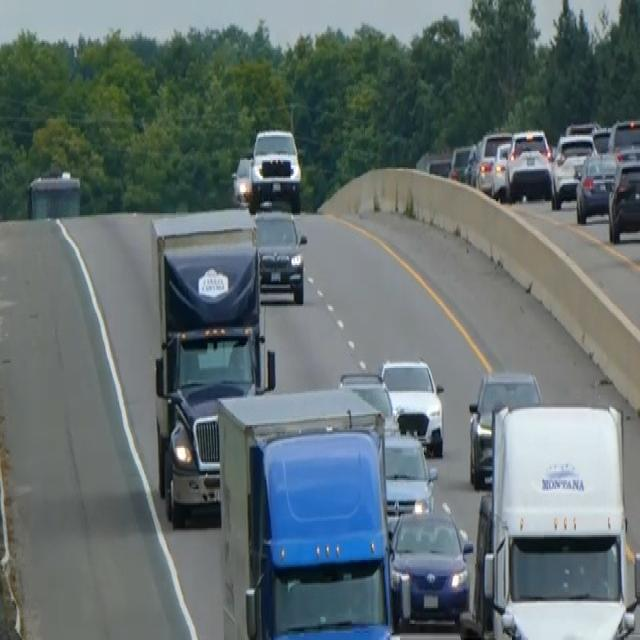car: (388, 500, 473, 628), (467, 368, 541, 487), (379, 356, 444, 455), (380, 428, 438, 534), (251, 203, 308, 304), (248, 126, 302, 210), (338, 368, 399, 439), (550, 130, 596, 208), (506, 126, 552, 201), (574, 149, 618, 224), (607, 154, 639, 243), (473, 128, 511, 197), (607, 116, 639, 162), (490, 137, 512, 199), (230, 153, 253, 204), (448, 141, 475, 183)
lorry: (215, 384, 397, 638), (470, 398, 638, 638), (149, 206, 274, 526)
